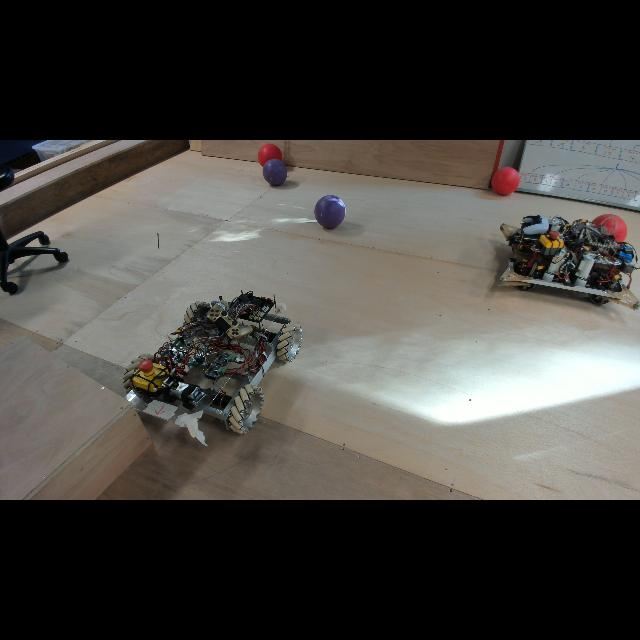P: (314, 196, 346, 228), (262, 158, 288, 186)
R: (588, 214, 628, 248), (492, 167, 520, 195), (258, 144, 282, 168)
